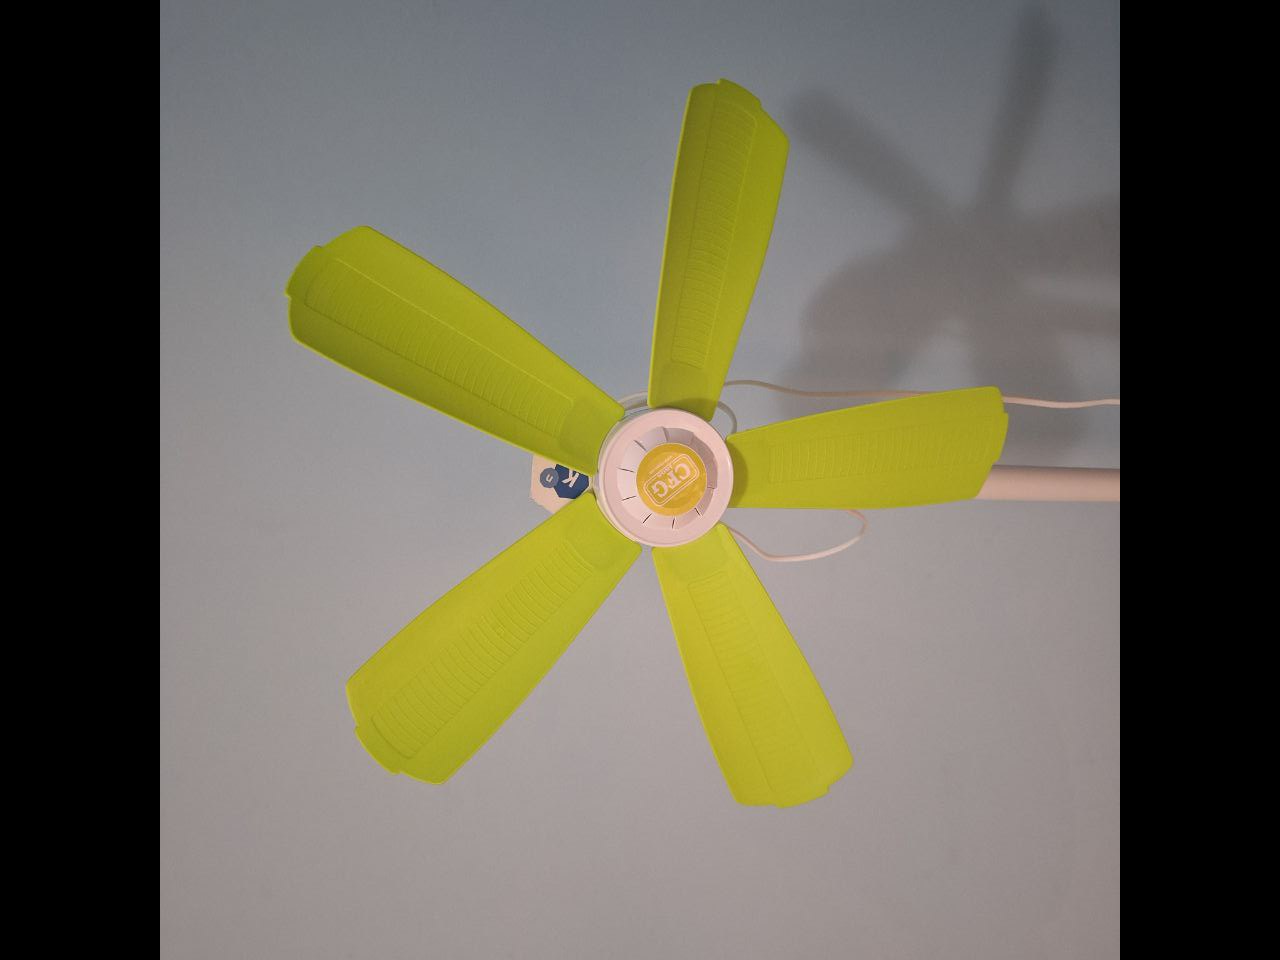knative: (543, 464, 588, 499)
